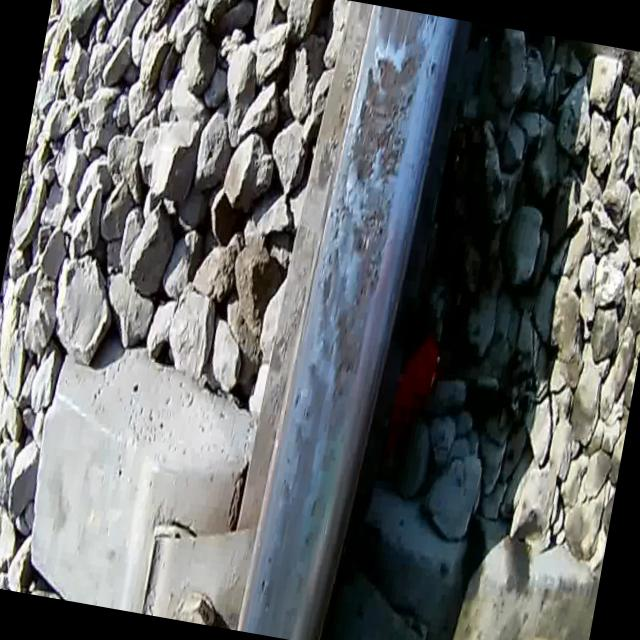Spallings: (342, 38, 432, 202)
Squats: (250, 2, 447, 640)
